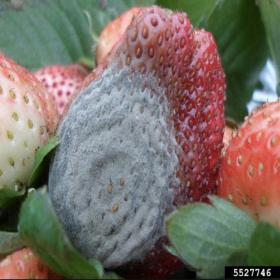Gray Mold: (47, 6, 228, 276)
